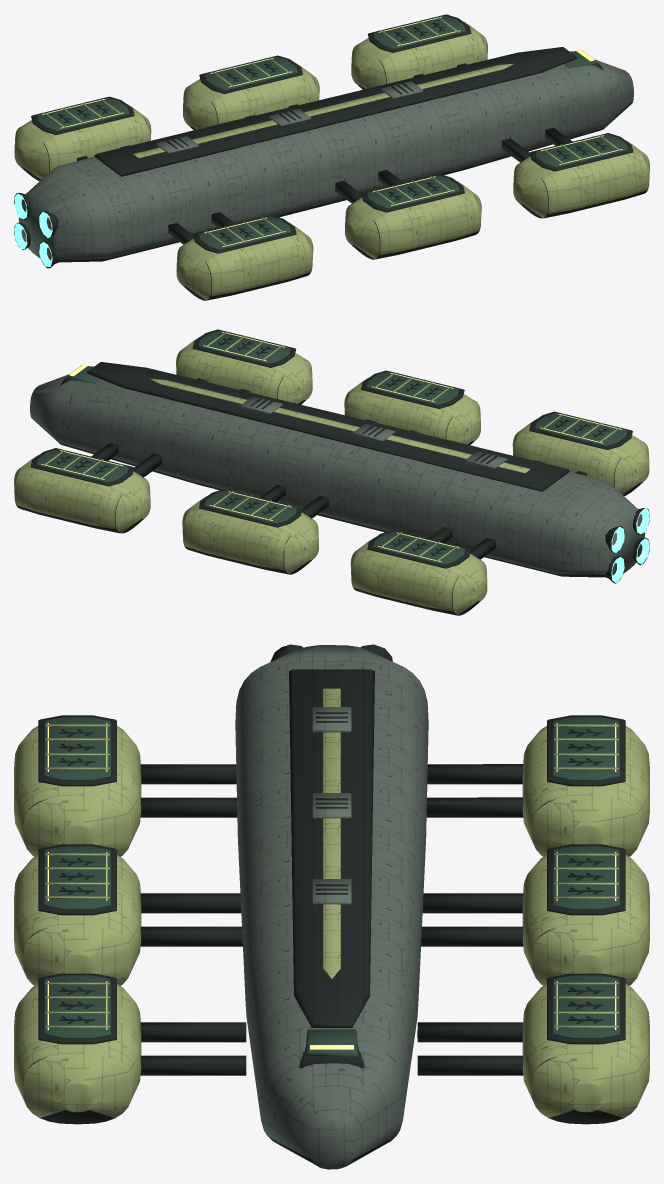
Rendered from ilex_ark_lod2.glb.
3 views of the same model, one above another, from view 1: azimuth 30°, elevation 25°; view 2: azimuth 150°, elevation 25°; view 3: azimuth 270°, elevation 25° (orthographic). The views are drawn at different scales.
Visible parts, largest first — view 1: LOD2_Hull, LOD2_MechanicalDark, LOD2_MOTION_ILEX_VAULT_2_Armor, LOD2_MOTION_ILEX_VAULT_6_Armor, LOD2_MOTION_ILEX_VAULT_4_Armor, LOD2_MOTION_ILEX_VAULT_1_Armor, LOD2_MOTION_ILEX_VAULT_5_Armor, LOD2_MOTION_ILEX_VAULT_3_Armor, LOD2_Armor, LOD2_MOTION_ILEX_VAULT_4_CANOPY, LOD2_MOTION_ILEX_VAULT_5_CANOPY, LOD2_MOTION_ILEX_VAULT_6_CANOPY (+10 smaller); view 2: LOD2_Hull, LOD2_MechanicalDark, LOD2_MOTION_ILEX_VAULT_5_Armor, LOD2_MOTION_ILEX_VAULT_3_Armor, LOD2_MOTION_ILEX_VAULT_1_Armor, LOD2_MOTION_ILEX_VAULT_2_Armor, LOD2_MOTION_ILEX_VAULT_6_Armor, LOD2_MOTION_ILEX_VAULT_4_Armor, LOD2_Armor, LOD2_MOTION_ILEX_VAULT_5_CANOPY, LOD2_MOTION_ILEX_VAULT_3_CANOPY, LOD2_MOTION_ILEX_VAULT_1_CANOPY (+10 smaller); view 3: LOD2_Hull, LOD2_MechanicalDark, LOD2_MOTION_ILEX_VAULT_5_Armor, LOD2_MOTION_ILEX_VAULT_6_Armor, LOD2_MOTION_ILEX_VAULT_1_Armor, LOD2_MOTION_ILEX_VAULT_3_Armor, LOD2_MOTION_ILEX_VAULT_4_Armor, LOD2_MOTION_ILEX_VAULT_2_Armor, LOD2_Armor, LOD2_MOTION_ILEX_VAULT_2_CANOPY, LOD2_MOTION_ILEX_VAULT_1_CANOPY, LOD2_MOTION_ILEX_VAULT_4_CANOPY (+10 smaller).
Boxes of the visible parts, x1=… form: LOD2_Hull: x1=18, y1=51, x2=633, y2=260; LOD2_MechanicalDark: x1=14, y1=47, x2=632, y2=268; LOD2_MOTION_ILEX_VAULT_2_Armor: x1=176, y1=217, x2=313, y2=300; LOD2_MOTION_ILEX_VAULT_6_Armor: x1=513, y1=135, x2=649, y2=217; LOD2_MOTION_ILEX_VAULT_4_Armor: x1=345, y1=176, x2=481, y2=259; LOD2_MOTION_ILEX_VAULT_1_Armor: x1=14, y1=98, x2=151, y2=179; LOD2_MOTION_ILEX_VAULT_5_Armor: x1=351, y1=16, x2=487, y2=88; LOD2_MOTION_ILEX_VAULT_3_Armor: x1=183, y1=57, x2=319, y2=129; LOD2_Armor: x1=133, y1=63, x2=513, y2=158; LOD2_MOTION_ILEX_VAULT_4_CANOPY: x1=367, y1=175, x2=459, y2=208; LOD2_MOTION_ILEX_VAULT_5_CANOPY: x1=373, y1=15, x2=465, y2=48; LOD2_MOTION_ILEX_VAULT_6_CANOPY: x1=535, y1=134, x2=627, y2=167; LOD2_Hull: x1=30, y1=366, x2=645, y2=575; LOD2_MechanicalDark: x1=31, y1=362, x2=649, y2=583; LOD2_MOTION_ILEX_VAULT_5_Armor: x1=14, y1=450, x2=150, y2=532; LOD2_MOTION_ILEX_VAULT_3_Armor: x1=182, y1=491, x2=318, y2=574; LOD2_MOTION_ILEX_VAULT_1_Armor: x1=350, y1=532, x2=487, y2=615; LOD2_MOTION_ILEX_VAULT_2_Armor: x1=512, y1=413, x2=649, y2=494; LOD2_MOTION_ILEX_VAULT_6_Armor: x1=176, y1=331, x2=312, y2=403; LOD2_MOTION_ILEX_VAULT_4_Armor: x1=344, y1=372, x2=480, y2=444; LOD2_Armor: x1=150, y1=378, x2=530, y2=473; LOD2_MOTION_ILEX_VAULT_5_CANOPY: x1=36, y1=449, x2=128, y2=482; LOD2_MOTION_ILEX_VAULT_3_CANOPY: x1=204, y1=490, x2=296, y2=523; LOD2_MOTION_ILEX_VAULT_1_CANOPY: x1=373, y1=531, x2=465, y2=564; LOD2_Hull: x1=235, y1=645, x2=428, y2=1169; LOD2_MechanicalDark: x1=140, y1=644, x2=523, y2=1165; LOD2_MOTION_ILEX_VAULT_5_Armor: x1=522, y1=982, x2=649, y2=1117; LOD2_MOTION_ILEX_VAULT_6_Armor: x1=14, y1=982, x2=141, y2=1118; LOD2_MOTION_ILEX_VAULT_1_Armor: x1=522, y1=724, x2=649, y2=856; LOD2_MOTION_ILEX_VAULT_3_Armor: x1=522, y1=853, x2=649, y2=985; LOD2_MOTION_ILEX_VAULT_4_Armor: x1=14, y1=853, x2=141, y2=985; LOD2_MOTION_ILEX_VAULT_2_Armor: x1=14, y1=724, x2=141, y2=856; LOD2_Armor: x1=323, y1=688, x2=340, y2=978; LOD2_MOTION_ILEX_VAULT_2_CANOPY: x1=44, y1=717, x2=111, y2=780; LOD2_MOTION_ILEX_VAULT_1_CANOPY: x1=553, y1=717, x2=619, y2=780; LOD2_MOTION_ILEX_VAULT_4_CANOPY: x1=44, y1=846, x2=111, y2=909.
Size of what is drawn, in the model's own units: 42.3 by 5.62 by 25.
Materials: 6 (3 with a texture image).
